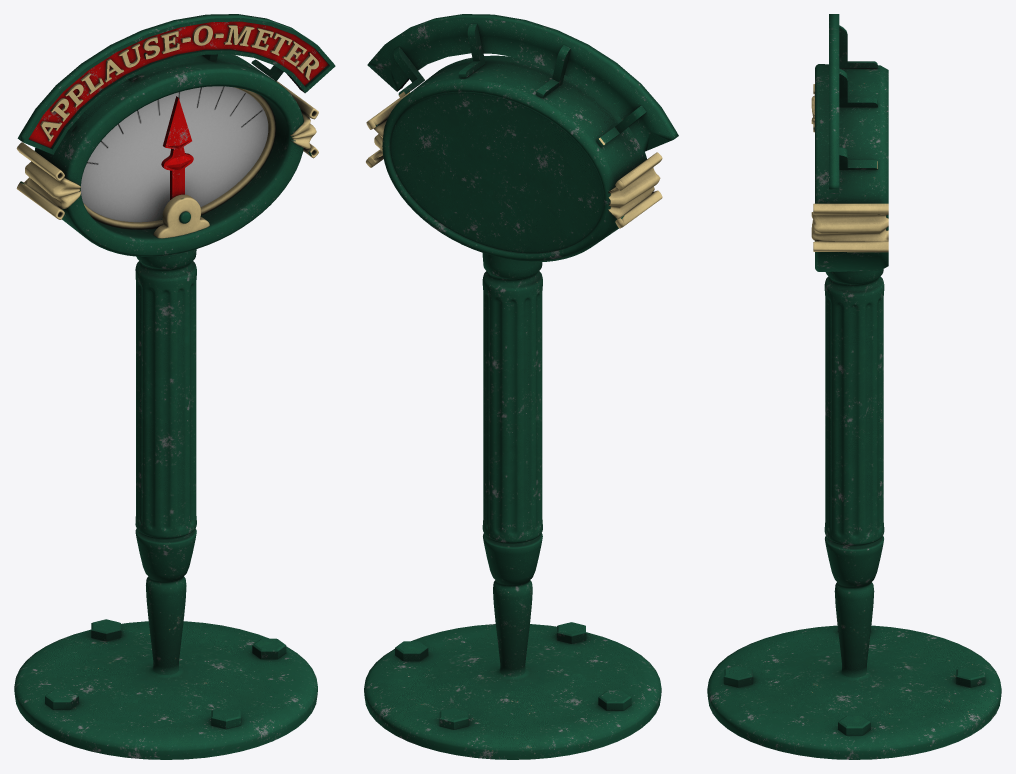
File: applauseOmeter.fbx
The picture shows the model from 3 angles, left to right: view 1: azimuth 30°, elevation 25°; view 2: azimuth 150°, elevation 25°; view 3: azimuth 270°, elevation 25°; orthographic projection. The views are drawn at different scales.
Parts seen in each view (by area): view 1: ApplauseOmeter, Pointer; view 2: ApplauseOmeter; view 3: ApplauseOmeter.
Part boxes in pixels (x1,y1,x2,y2): ApplauseOmeter: (14,14,335,759); Pointer: (161,96,193,199); ApplauseOmeter: (364,14,678,759); ApplauseOmeter: (707,14,1001,759).
Bounding box in the file's own units: 299 × 622 × 251.
1 material, 1 textured.
